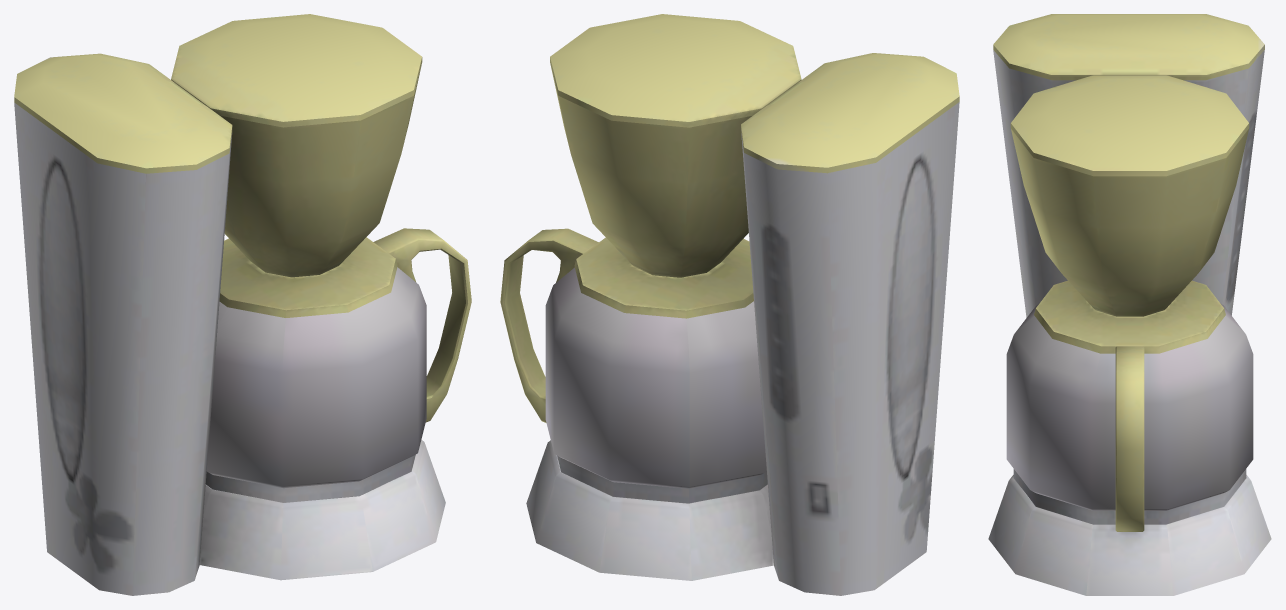
File: furni_0200427.FBX
The picture shows the model from 3 angles, left to right: view 1: azimuth 30°, elevation 25°; view 2: azimuth 150°, elevation 25°; view 3: azimuth 270°, elevation 25°; orthographic projection. The views are drawn at different scales.
Parts seen in each view (by area): view 1: furni_0200427; view 2: furni_0200427; view 3: furni_0200427.
Part boxes in pixels (x1,y1,x2,y2): furni_0200427: [14, 14, 471, 595]; furni_0200427: [500, 14, 959, 595]; furni_0200427: [988, 14, 1271, 595].
Size of the model in its own units: 39.86 by 42.67 by 25.72.
